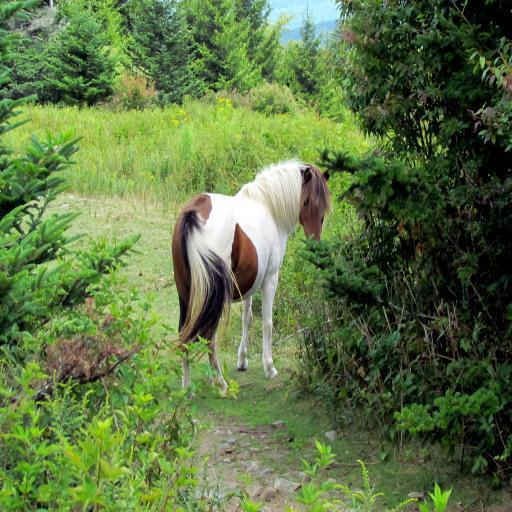horse: (164, 164, 336, 393)
